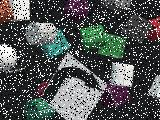Right: (41, 52, 108, 120)
